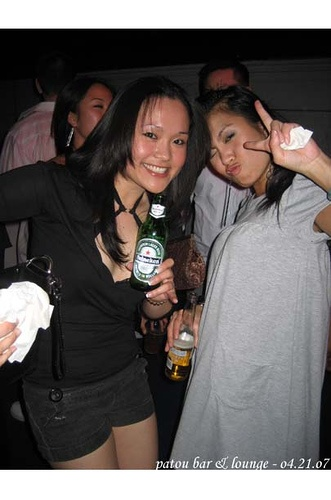head: (110, 82, 190, 196), (199, 87, 274, 192), (60, 77, 116, 148), (198, 56, 248, 94)
person: (1, 71, 188, 464), (166, 88, 330, 461), (189, 78, 252, 261), (1, 47, 74, 172)
